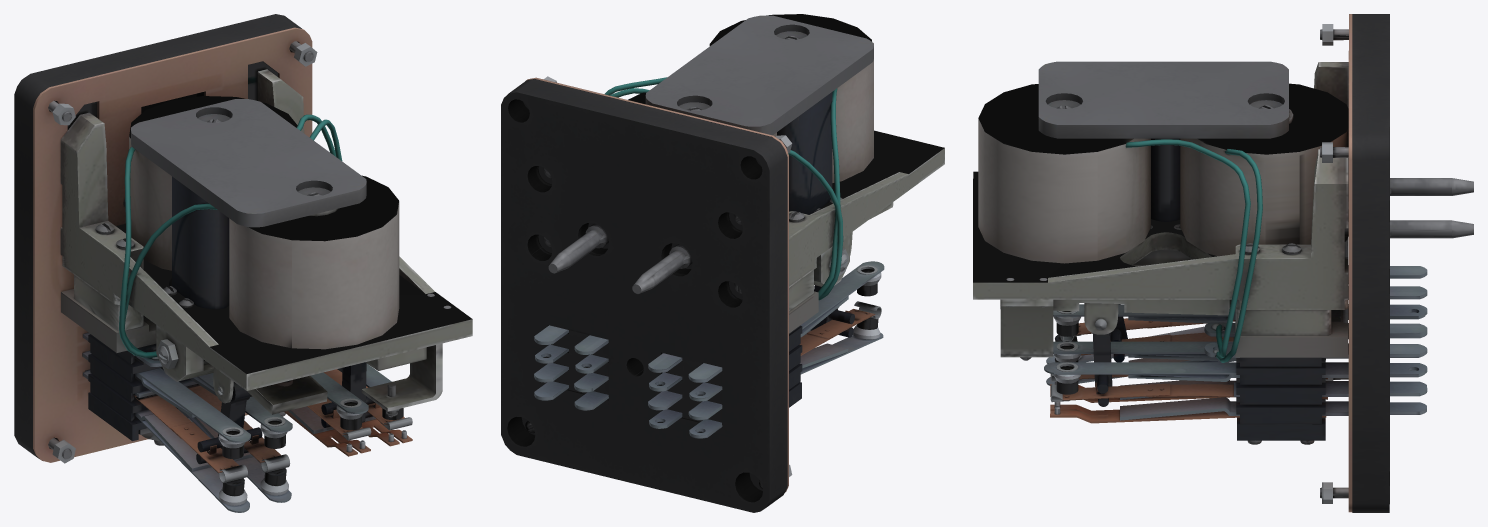
Rendered from kmsh_A1_G-A.fbx.
3 views of the same model, side by side, from view 1: azimuth 30°, elevation 25°; view 2: azimuth 150°, elevation 25°; view 3: azimuth 270°, elevation 25° (orthographic). The views are drawn at different scales.
Visible parts, largest first — view 1: kmsh, kont_L, mandula_L, kont_R, pimp_L, pimp_R, mandula_R; view 2: kmsh, kont_L, pimp_L; view 3: kmsh, mandula_R, kont_R, kont_L, pimp_R.
Boxes of the visible parts, <box> form: kmsh: <box>14,14,472,512</box>; kont_L: <box>134,384,290,482</box>; mandula_L: <box>203,360,327,414</box>; kont_R: <box>307,369,412,440</box>; pimp_L: <box>196,382,262,464</box>; pimp_R: <box>321,362,374,427</box>; mandula_R: <box>365,347,426,370</box>; kmsh: <box>501,14,944,512</box>; kont_L: <box>799,301,881,355</box>; pimp_L: <box>810,285,854,337</box>; kmsh: <box>973,14,1473,512</box>; mandula_R: <box>1000,265,1231,334</box>; kont_R: <box>1050,374,1327,402</box>; kont_L: <box>1060,318,1235,356</box>; pimp_R: <box>1092,333,1112,406</box>.
Bounding box in the file's own units: 0.0696 × 0.0898 × 0.1079.
